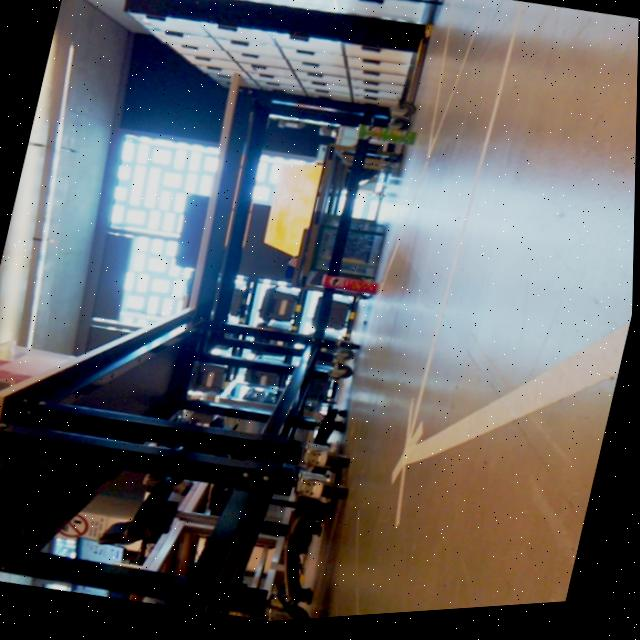greenpringles: (345, 118, 425, 159)
redpringles: (307, 266, 398, 316)
